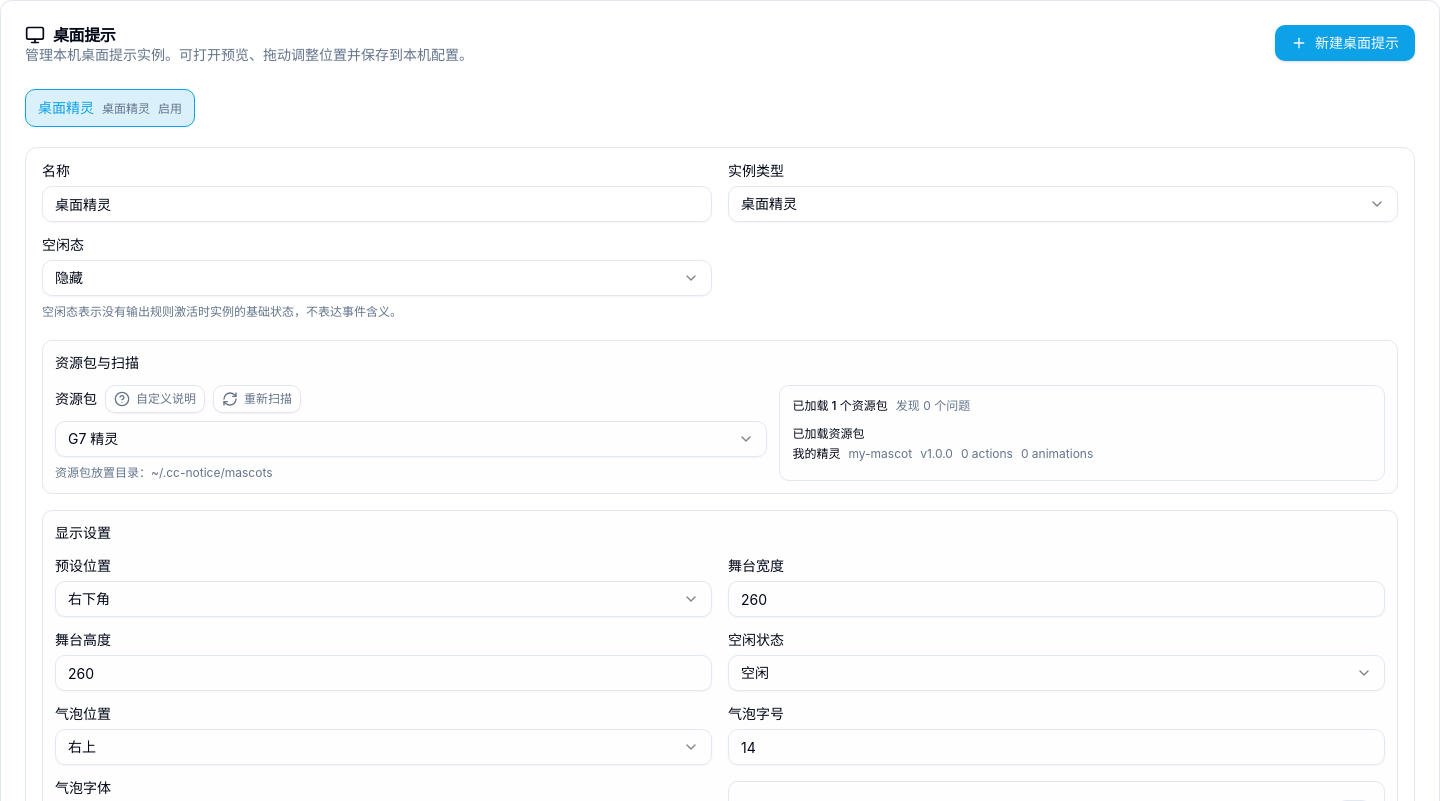
Test: DesktopNoticeInstanceLibrary › shows scanned local custom mascot packs in the asset pack selector
What coordinates should you click on to do the following:
click the dropdown named "资源包"
I would click on:
 (93, 438)
Its box is [55,421,767,457].
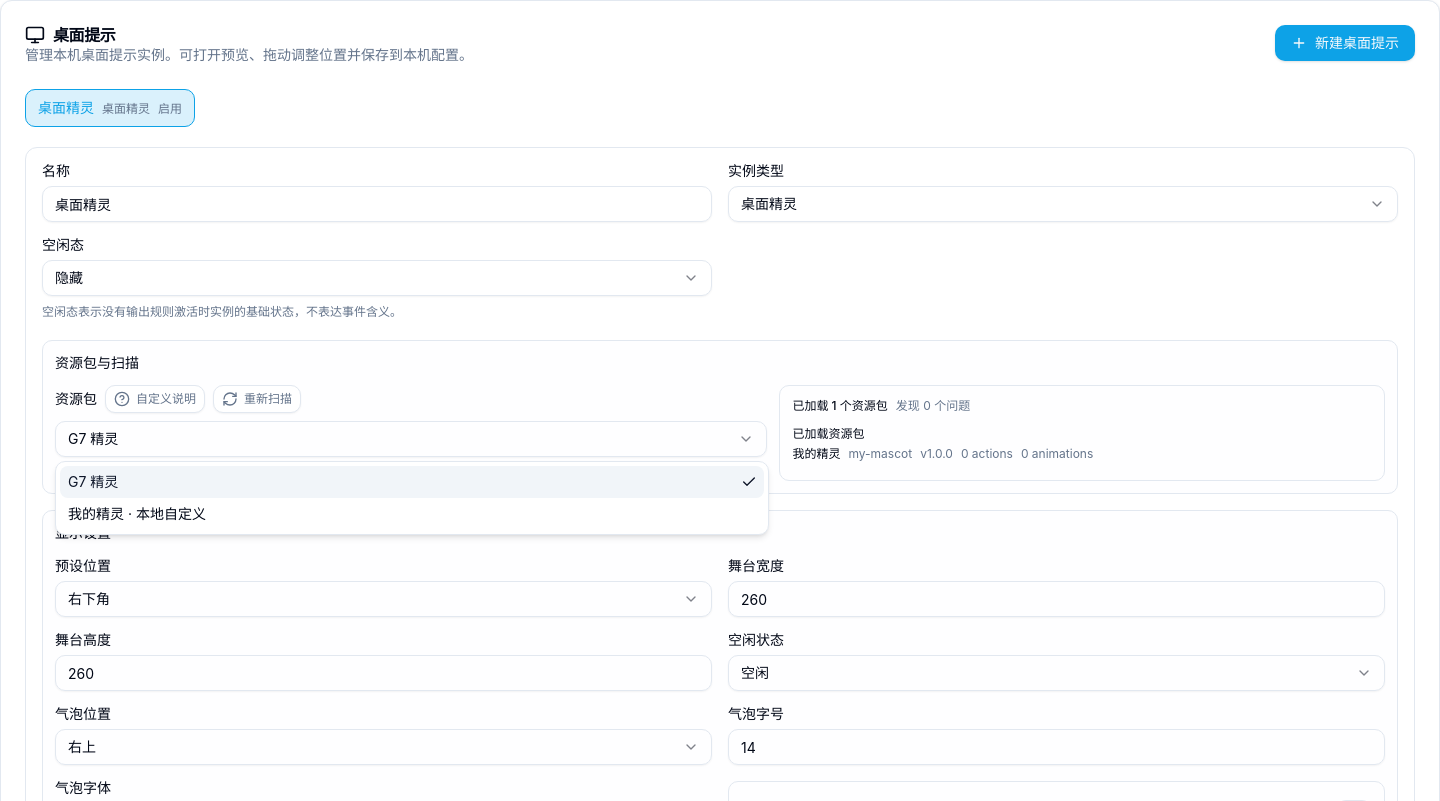
Expected: the text "我的精灵 · 本地自定义" is shown, [68,504,206,524]
